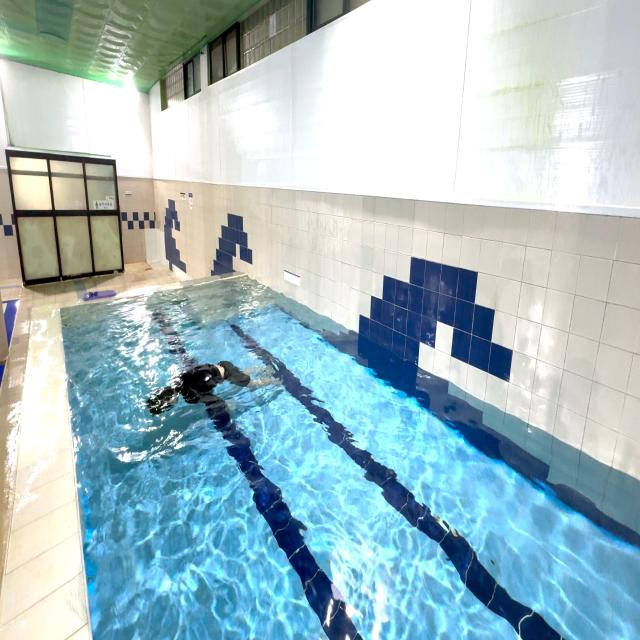Drowning: (140, 352, 285, 429)
